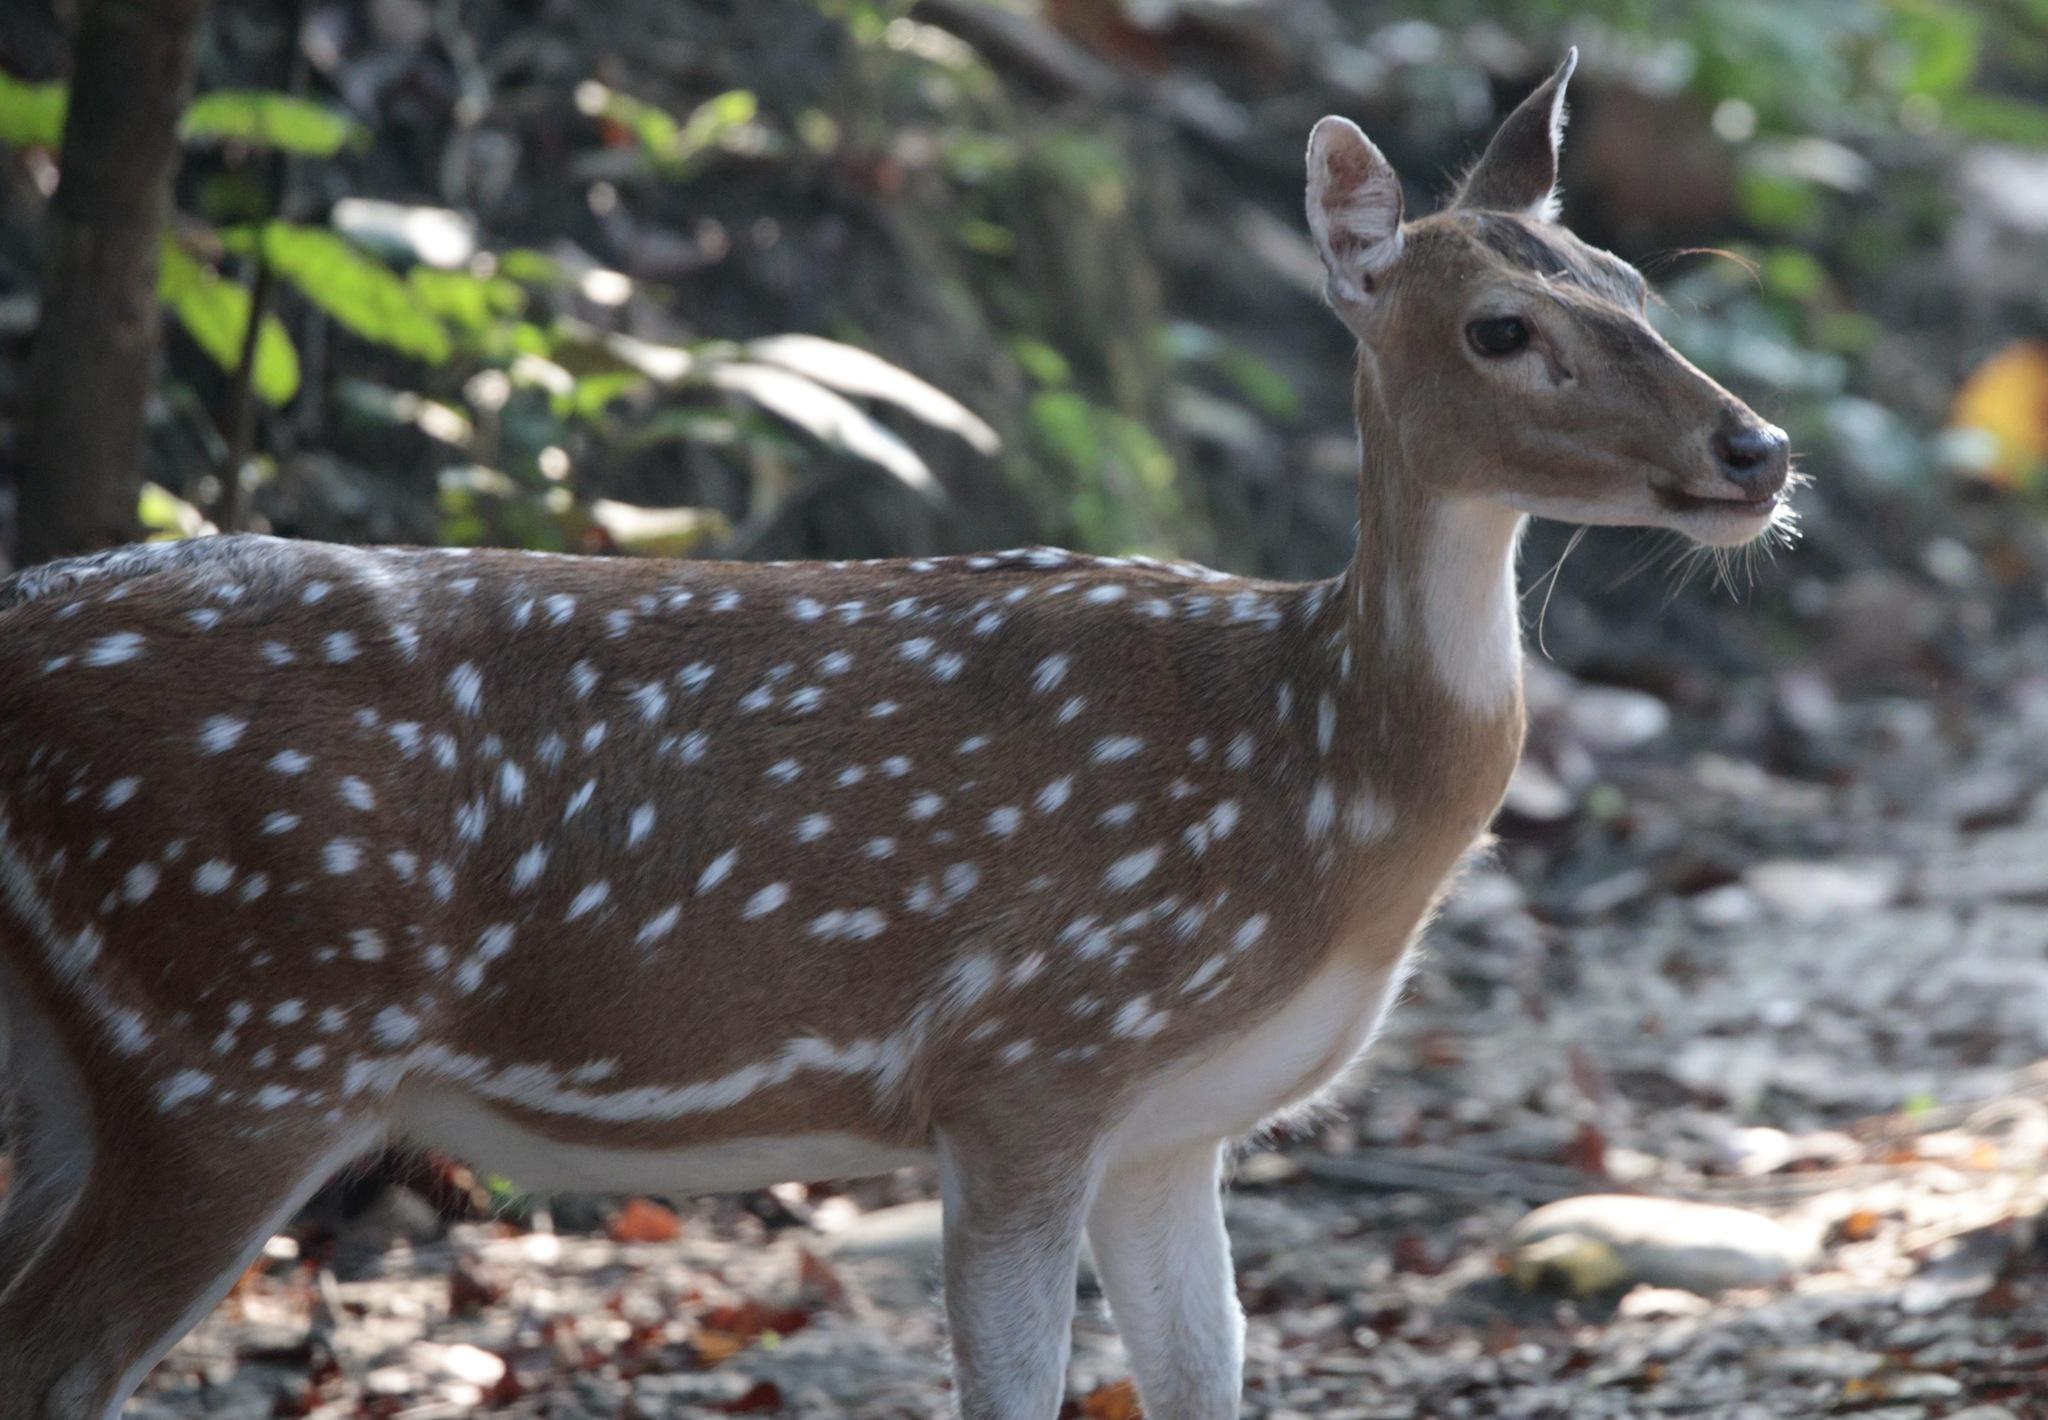Deer: (0, 50, 1790, 1415)
